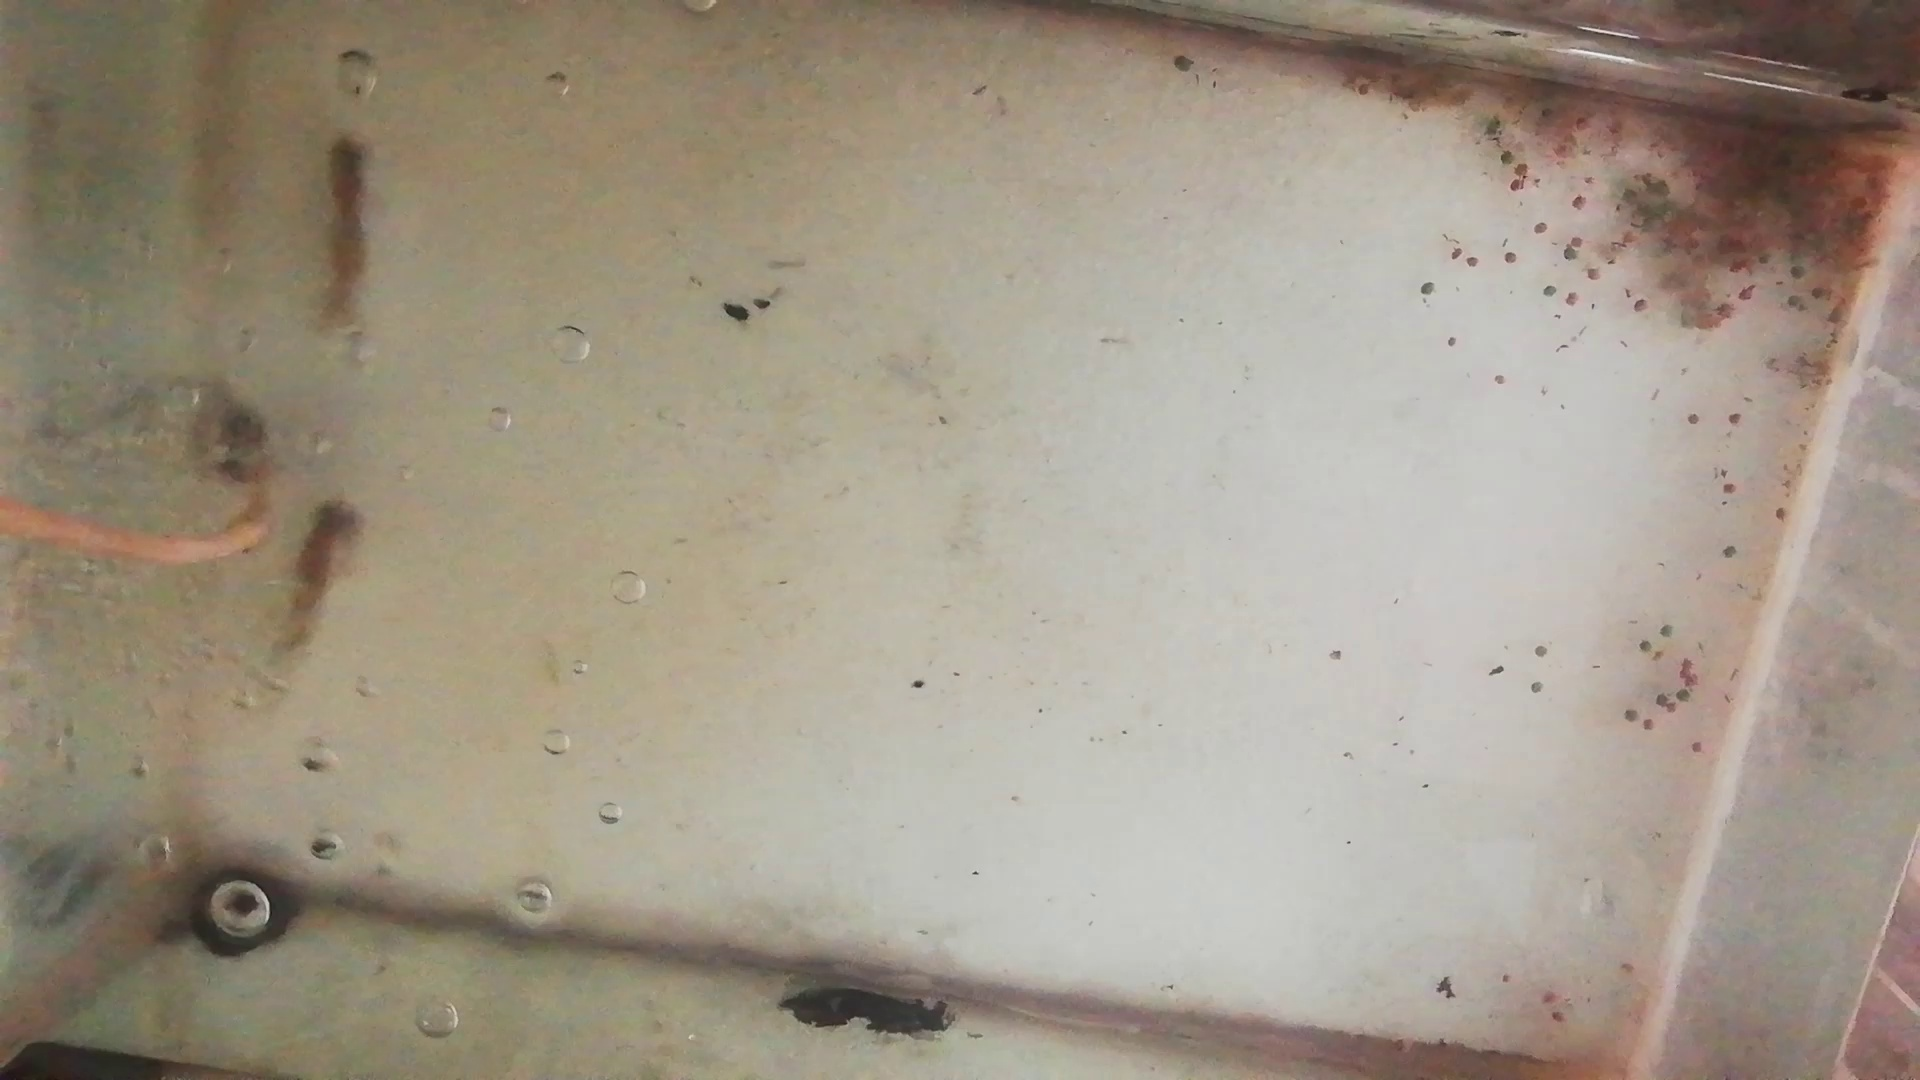fish: (268, 498, 361, 676), (319, 132, 373, 344)
